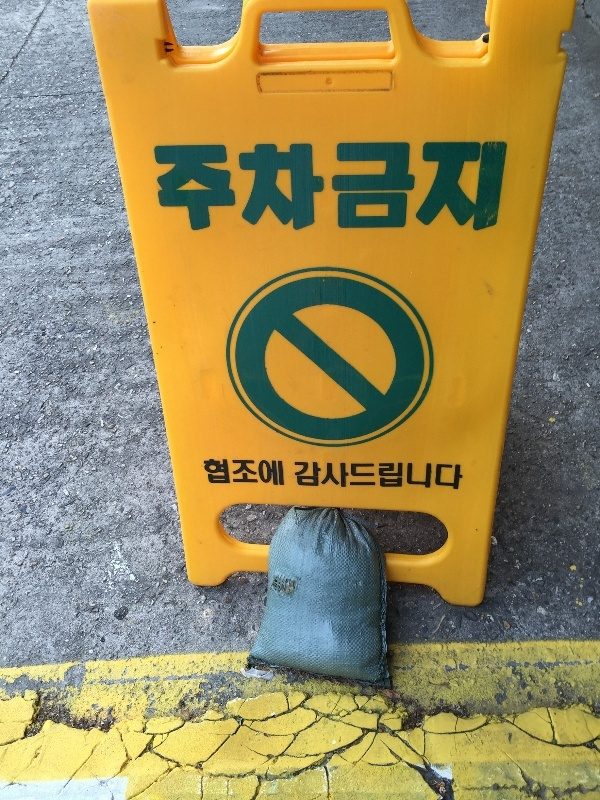text: (161, 140, 176, 241), (177, 140, 192, 241), (193, 140, 208, 241), (209, 140, 224, 241), (225, 140, 240, 241), (241, 140, 256, 241), (257, 140, 272, 241), (273, 140, 288, 241), (289, 140, 304, 241), (305, 140, 320, 241), (337, 141, 352, 238), (353, 141, 368, 238), (369, 141, 384, 238), (385, 141, 400, 238), (401, 141, 416, 238), (417, 141, 432, 238), (433, 141, 448, 238), (449, 141, 464, 238), (465, 141, 480, 238), (481, 141, 496, 238), (497, 141, 509, 238), (151, 140, 160, 241), (328, 141, 336, 238), (321, 140, 327, 241), (305, 458, 320, 497), (321, 458, 336, 497), (337, 458, 352, 497), (353, 458, 368, 497), (369, 458, 384, 497), (385, 458, 400, 497), (401, 458, 416, 497), (417, 458, 432, 497), (433, 458, 448, 497), (449, 458, 464, 497), (292, 458, 304, 497), (209, 458, 224, 487), (225, 458, 240, 487), (241, 458, 256, 487), (257, 458, 272, 487), (273, 458, 285, 487), (203, 458, 208, 487), (465, 458, 466, 497)
